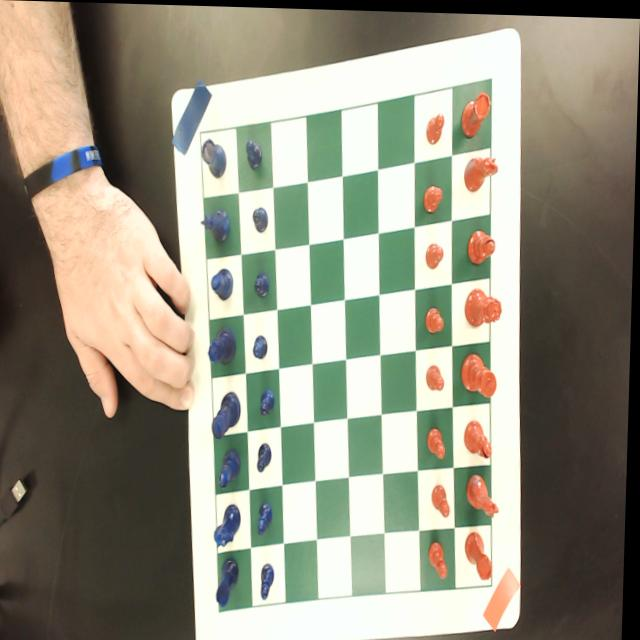B: (221, 447, 244, 487), (212, 267, 235, 300)
K: (213, 388, 244, 439)
N: (215, 501, 244, 549), (200, 205, 232, 246)
P: (246, 137, 265, 171), (263, 561, 279, 599), (260, 499, 277, 534), (261, 385, 278, 418), (252, 204, 271, 232), (259, 441, 275, 471), (255, 271, 272, 297), (254, 333, 271, 359)
Q: (210, 326, 239, 364)
R: (219, 556, 243, 606), (200, 138, 227, 178)
b: (466, 417, 496, 456), (468, 224, 498, 263)
cb: (201, 75, 495, 609)
k: (462, 348, 500, 395)
n: (468, 470, 503, 517), (464, 152, 500, 193)
p: (431, 537, 452, 577), (434, 481, 455, 516), (426, 109, 445, 144), (429, 424, 449, 457), (424, 181, 445, 211), (427, 304, 447, 333), (428, 363, 447, 389), (427, 242, 445, 268)
q: (466, 284, 505, 326)
r: (467, 528, 497, 578), (461, 88, 492, 136)
